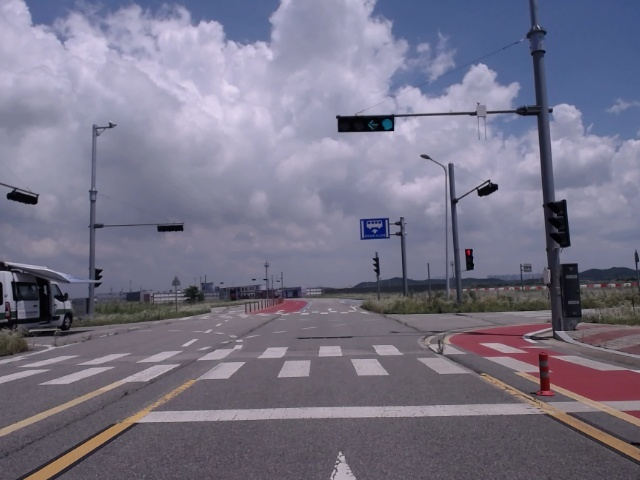all_green_4: (336, 118, 392, 129)
